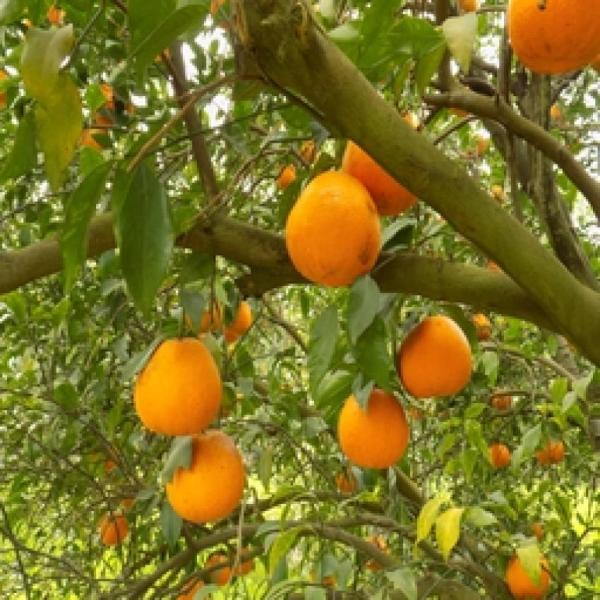Sana: (280, 166, 382, 292), (131, 328, 226, 434), (156, 428, 252, 530), (340, 126, 423, 220), (393, 311, 476, 404), (502, 0, 598, 75), (334, 385, 412, 467), (85, 85, 134, 133), (503, 554, 552, 600), (222, 300, 260, 340), (76, 127, 112, 168), (202, 552, 235, 593), (187, 294, 221, 330), (230, 547, 262, 579), (466, 308, 496, 342), (97, 514, 128, 546), (269, 167, 302, 194), (487, 442, 514, 472), (544, 438, 568, 470), (336, 467, 360, 498), (491, 391, 514, 418), (532, 444, 549, 477)
